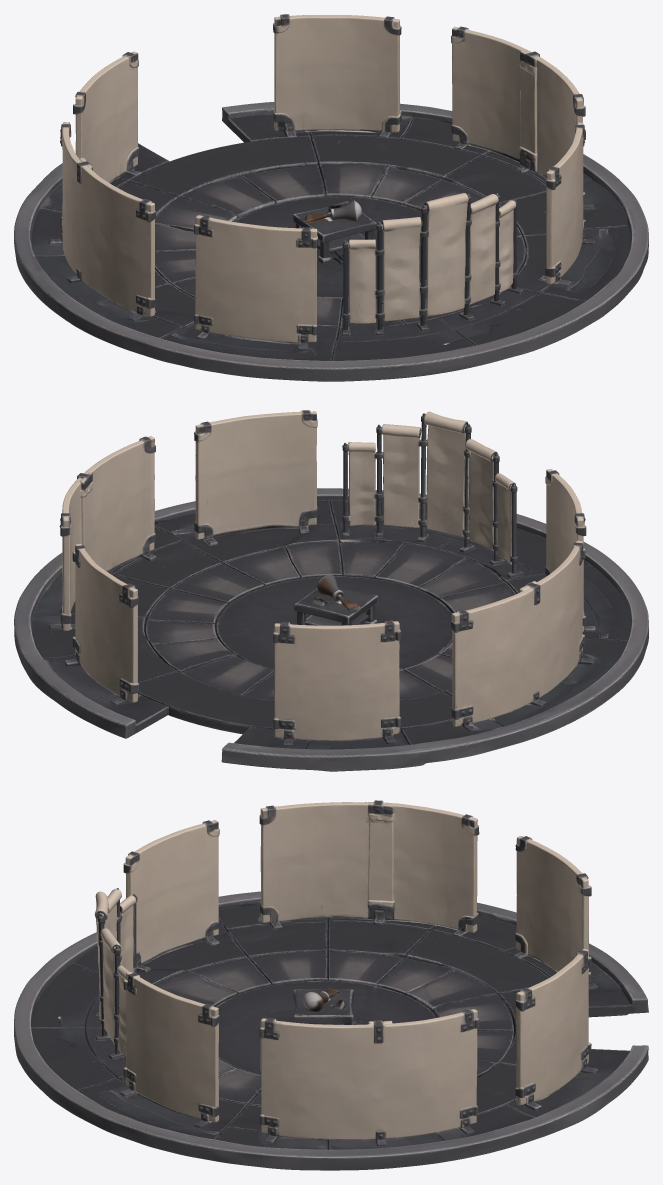
File: Nivel6_LAsostenido_Matar_al_padre_nivel_completo.glb
3 renders of one model, top to bottom at view 1: azimuth 30°, elevation 25°; view 2: azimuth 150°, elevation 25°; view 3: azimuth 270°, elevation 25°, orthographic.
Visible parts, largest first — view 1: Mesh_0; view 2: Mesh_0; view 3: Mesh_0.
Boxes of the visible parts, x1,y1,x2,y2 form: Mesh_0: (14, 14, 648, 381); Mesh_0: (14, 410, 648, 771); Mesh_0: (14, 800, 648, 1170).
Bounding box in the file's own units: 1.9 × 0.4527 × 1.9.
1 material, 1 textured.
